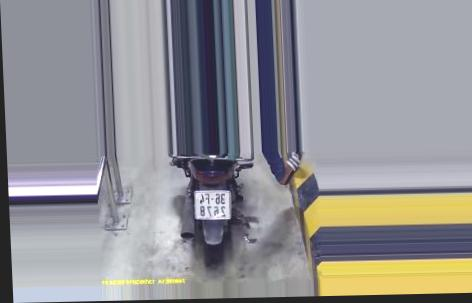License_Plate: (192, 187, 236, 220)
